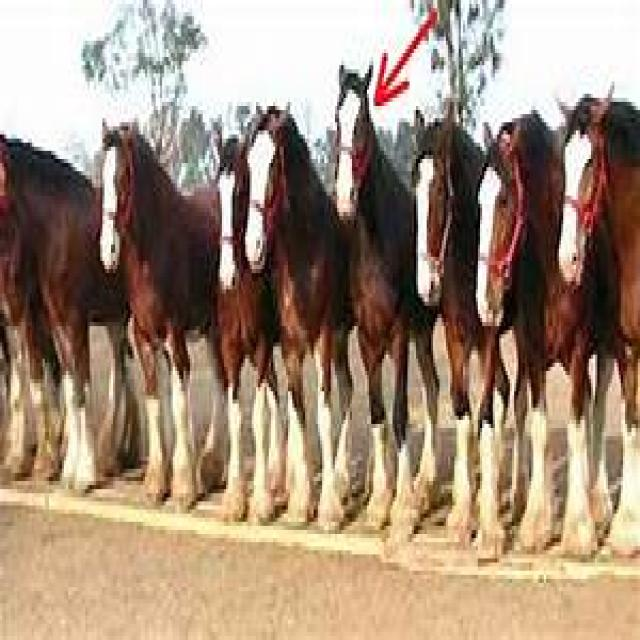animal: (100, 121, 228, 502), (0, 125, 136, 482), (336, 56, 436, 528), (247, 104, 350, 524), (478, 113, 573, 551), (558, 86, 640, 563), (413, 96, 478, 544), (217, 132, 264, 522)
